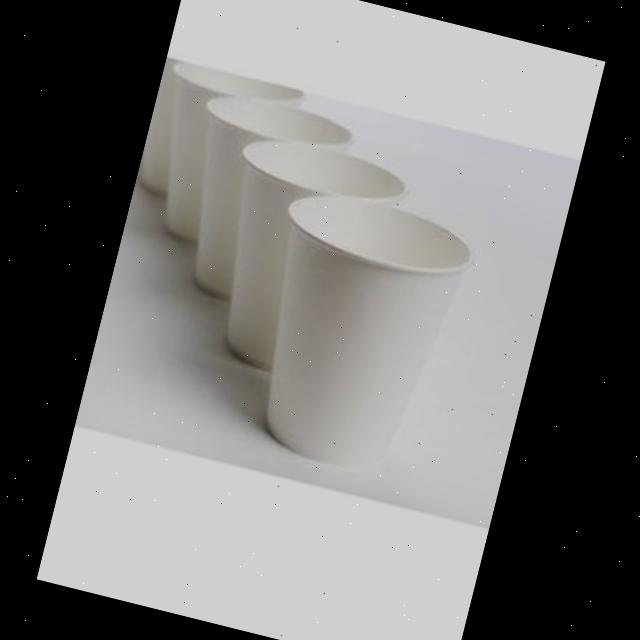trash: (188, 163, 516, 502)
